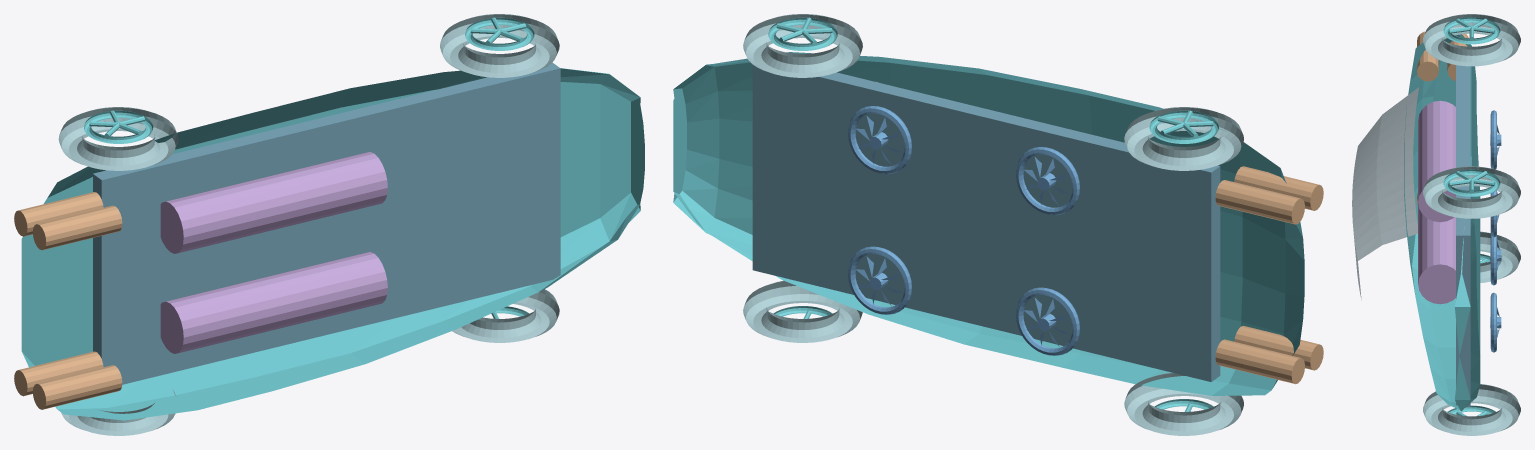
Rendered from roadster_concept_components.glb.
3 views of the same model, side by side, from view 1: azimuth 30°, elevation 25°; view 2: azimuth 150°, elevation 25°; view 3: azimuth 270°, elevation 25° (orthographic). The views are drawn at different scales.
Parts seen in each view (by area): view 1: roadster_chassis, roadster_body, roadster_pressure_tanks, roadster_tires, roadster_thruster_tubes, roadster_rims; view 2: roadster_chassis, roadster_body, roadster_tires, roadster_suction_fans, roadster_thruster_tubes, roadster_rims; view 3: roadster_tires, roadster_body, roadster_canopy, roadster_pressure_tanks, roadster_chassis, roadster_rims, roadster_suction_fans, roadster_thruster_tubes.
Boxes of the visible parts, box(x1,y1,x2,y2) form: roadster_chassis: box(93, 62, 560, 384); roadster_body: box(21, 68, 644, 420); roadster_pressure_tanks: box(160, 152, 387, 353); roadster_tires: box(58, 14, 559, 435); roadster_thruster_tubes: box(14, 192, 122, 409); roadster_rims: box(84, 17, 534, 318); roadster_chassis: box(752, 65, 1220, 381); roadster_body: box(673, 52, 1304, 395); roadster_tires: box(743, 14, 1243, 435); roadster_suction_fans: box(848, 106, 1079, 355); roadster_thruster_tubes: box(1215, 166, 1323, 384); roadster_rims: box(768, 17, 1218, 411); roadster_tires: box(1423, 14, 1520, 435); roadster_body: box(1404, 34, 1480, 411); roadster_canopy: box(1352, 87, 1418, 300); roadster_pressure_tanks: box(1418, 100, 1455, 304); roadster_chassis: box(1456, 65, 1470, 407); roadster_rims: box(1443, 17, 1500, 415); roadster_suction_fans: box(1490, 110, 1501, 352); roadster_thruster_tubes: box(1417, 31, 1468, 205).
Bounding box in the file's own units: 4.78 × 2.2 × 1.38.
